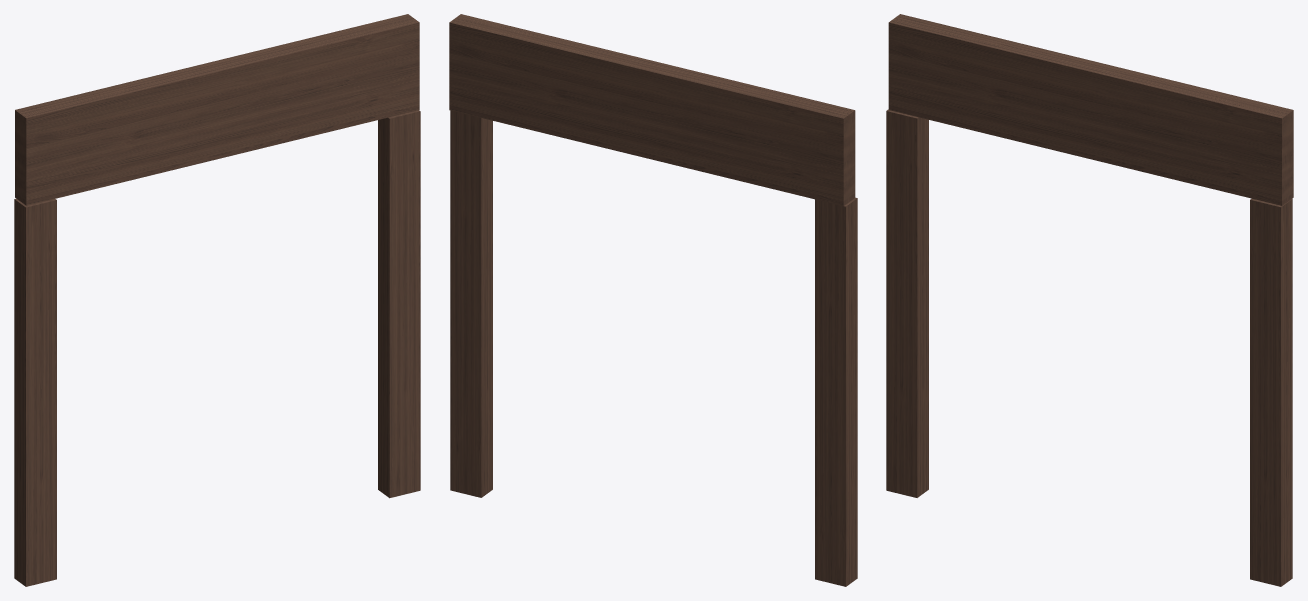
File: DoorFrame.fbx
The picture shows the model from 3 angles, left to right: view 1: azimuth 30°, elevation 25°; view 2: azimuth 150°, elevation 25°; view 3: azimuth 330°, elevation 25°; orthographic projection.
Parts seen in each view (by area): view 1: Cube__2_, Cube__1_, Cube; view 2: Cube__2_, Cube__1_, Cube; view 3: Cube__2_, Cube, Cube__1_.
Part boxes in pixels (x1,y1,x2,y2): Cube__2_: (15,14,419,205); Cube__1_: (14,198,56,586); Cube: (378,110,420,498); Cube__2_: (449,14,855,206); Cube__1_: (815,197,857,586); Cube: (450,110,492,497); Cube__2_: (888,14,1293,205); Cube: (1250,198,1292,586); Cube__1_: (886,109,928,497).
Size of the model in its own units: 806 by 912 by 44.48.
